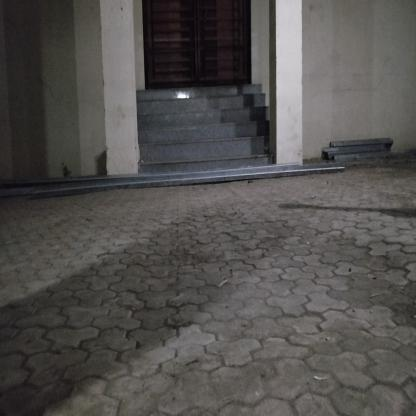stairs: (141, 92, 265, 171)
